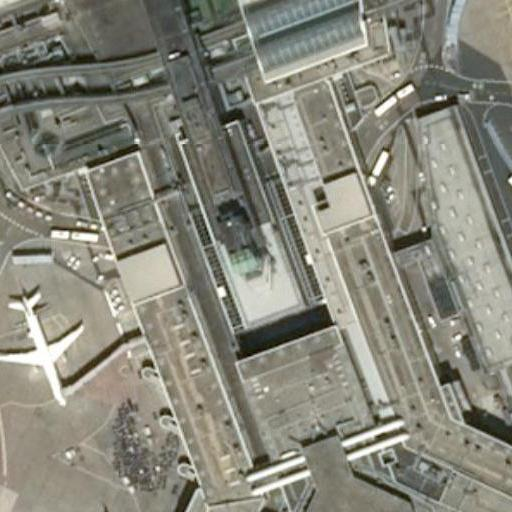Aircraft: (0, 278, 94, 412), (37, 500, 146, 512)
